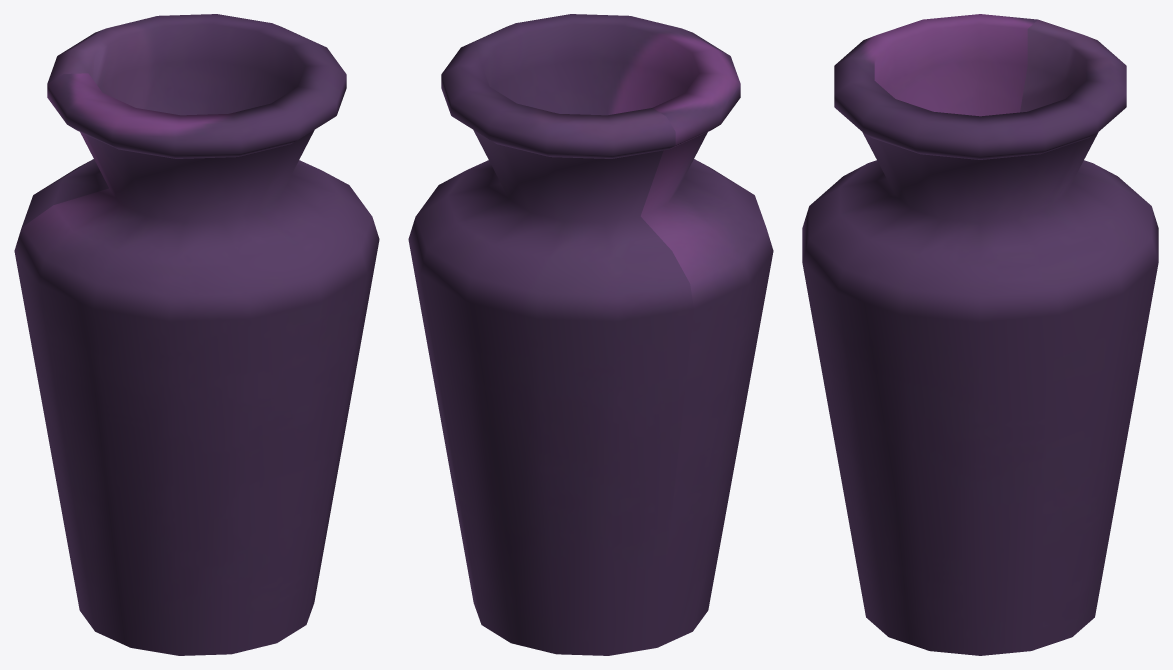
The model's file is pot2.fbx.
3 views of the same model, side by side, from view 1: azimuth 30°, elevation 25°; view 2: azimuth 150°, elevation 25°; view 3: azimuth 270°, elevation 25° (orthographic).
Parts seen in each view (by area): view 1: pot1; view 2: pot1; view 3: pot1.
Boxes of the visible parts, <box> form: pot1: <box>14,14,379,655</box>; pot1: <box>408,14,773,655</box>; pot1: <box>802,14,1158,655</box>.
Bounding box in the file's own units: 2 × 3.24 × 1.95.
